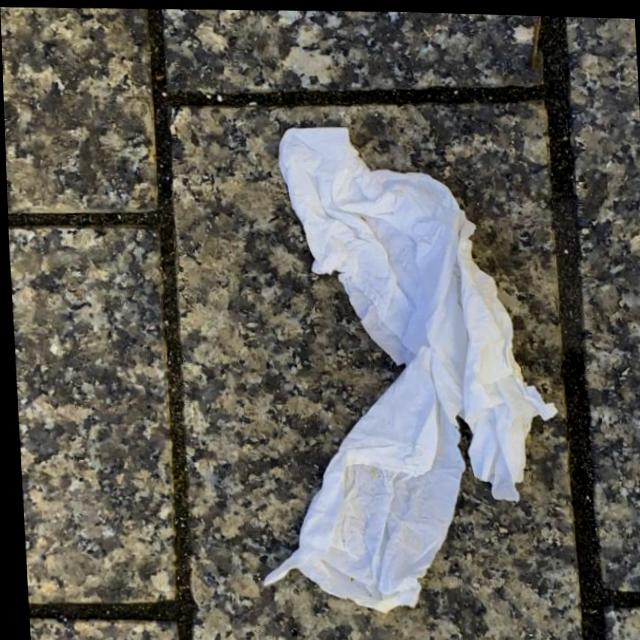Paper: (233, 116, 565, 619)
